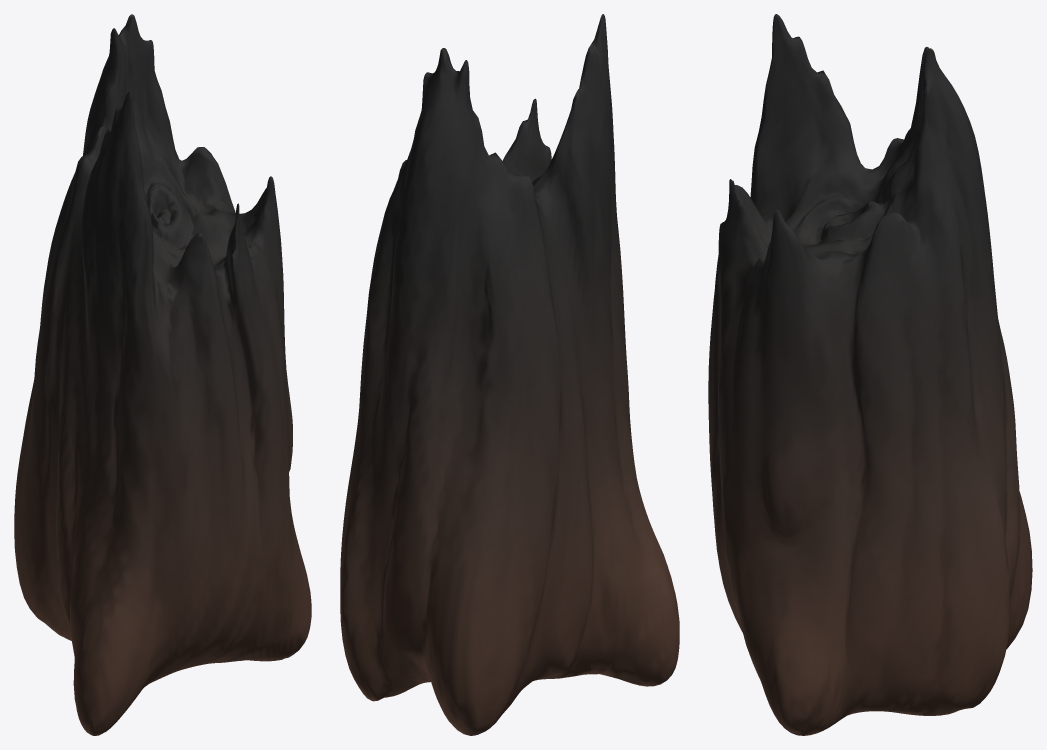
Rendered from GameJam_Burned_tree2_Textured.fbx.
3 renders of one model, left to right at view 1: azimuth 30°, elevation 25°; view 2: azimuth 150°, elevation 25°; view 3: azimuth 270°, elevation 25°, orthographic. The views are drawn at different scales.
Parts seen in each view (by area): view 1: Burned_tree1_LowPoly:Group228; view 2: Burned_tree1_LowPoly:Group228; view 3: Burned_tree1_LowPoly:Group228.
Part boxes in pixels (x1,y1,x2,y2): Burned_tree1_LowPoly:Group228: (14,14,311,735); Burned_tree1_LowPoly:Group228: (340,14,679,735); Burned_tree1_LowPoly:Group228: (708,14,1032,735).
Bounding box in the file's own units: 2.68 × 6.55 × 2.93.
Materials: 1 (1 with a texture image).
